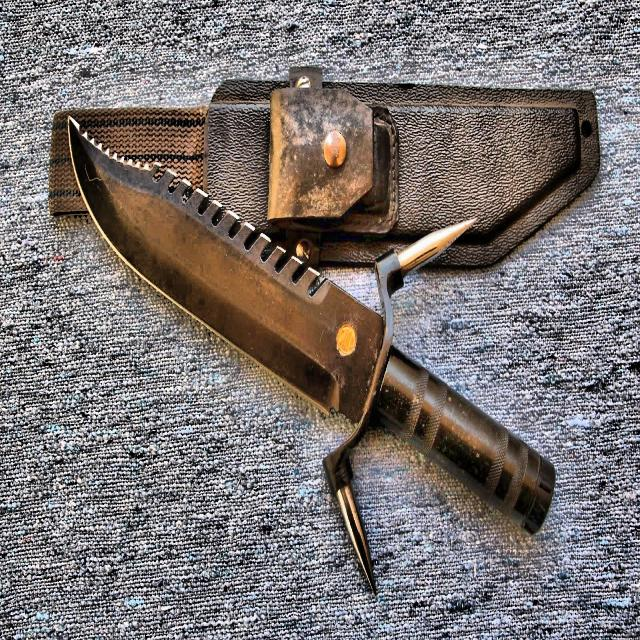knife: (67, 120, 554, 597)
